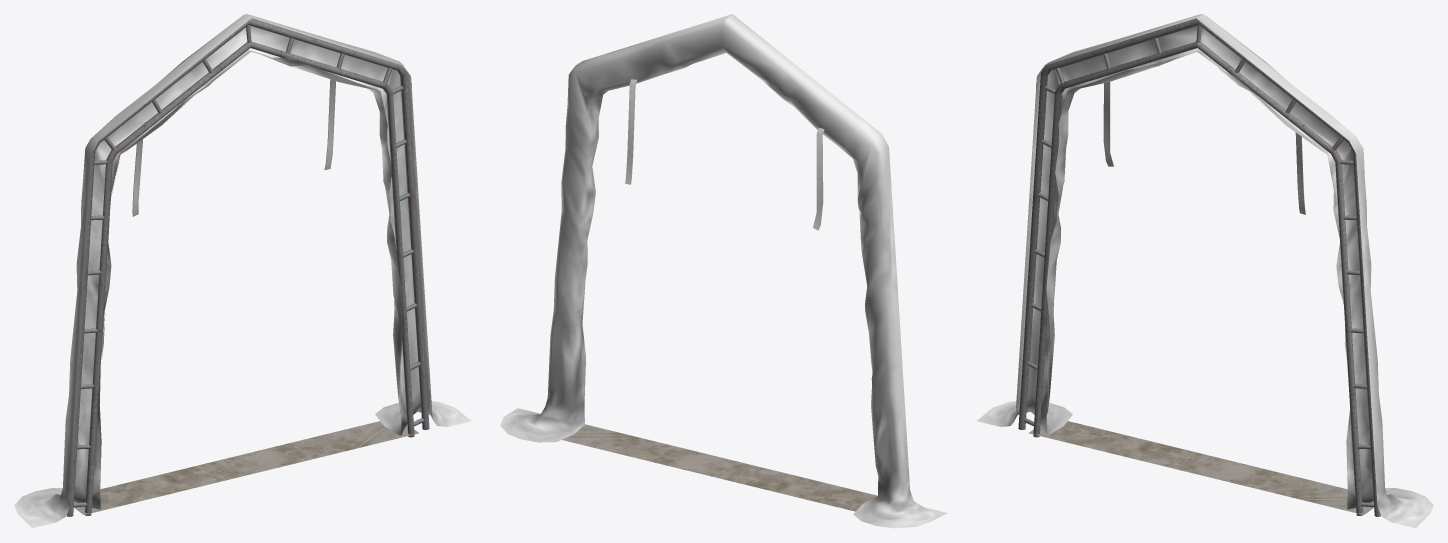
The model's file is tent_tunnel_branch_doorway_b.glb.
3 renders of one model, left to right at view 1: azimuth 30°, elevation 25°; view 2: azimuth 150°, elevation 25°; view 3: azimuth 330°, elevation 25°, orthographic. The views are drawn at different scales.
Parts seen in each view (by area): view 1: tent_tunnel_branch_doorway_b_LOD0; view 2: tent_tunnel_branch_doorway_b_LOD0; view 3: tent_tunnel_branch_doorway_b_LOD0.
Boxes of the visible parts, bbox=[...] form: tent_tunnel_branch_doorway_b_LOD0: bbox=[14, 14, 471, 528]; tent_tunnel_branch_doorway_b_LOD0: bbox=[500, 14, 947, 528]; tent_tunnel_branch_doorway_b_LOD0: bbox=[976, 14, 1433, 528].
Size of the model in its own units: 3.27 by 3.27 by 0.4452.
3 materials, 3 textured.
